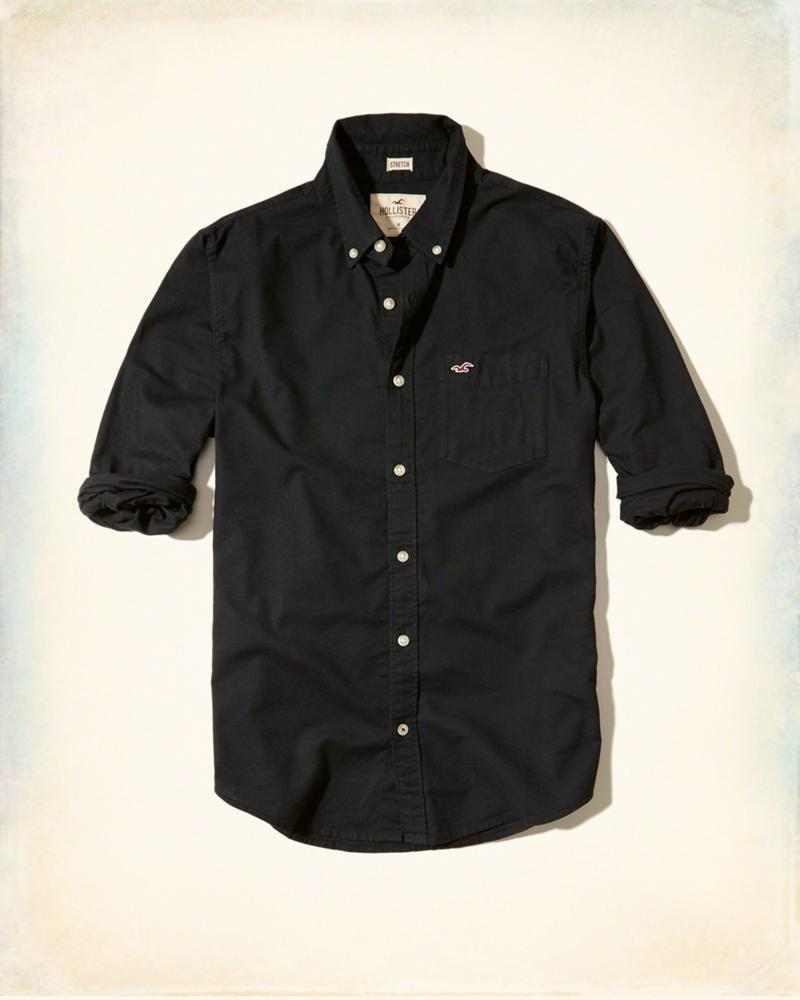teeshirt: (82, 104, 739, 863)
